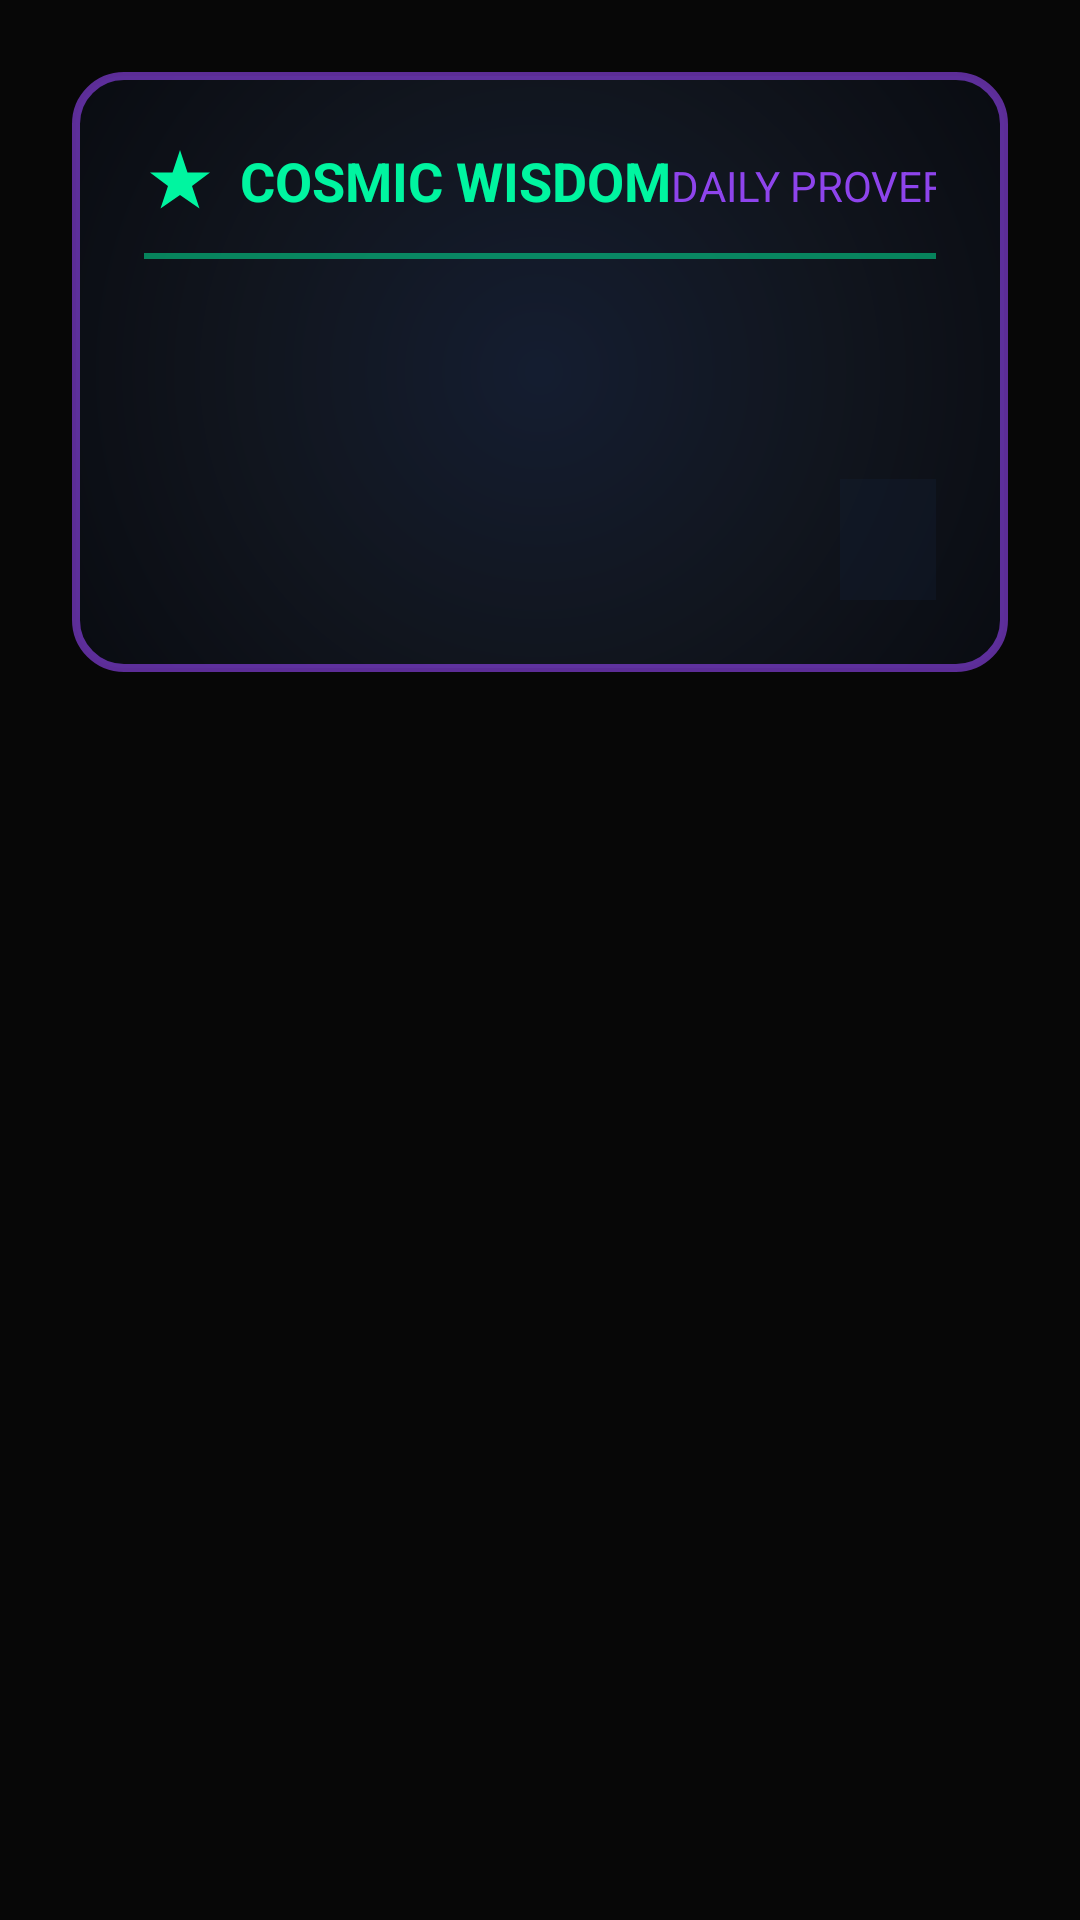

Locate icon controls on the screen. Image size 1080 × 1920, boxes as [x1, y1, x2, y2].
cosmic star: [150, 150, 210, 209]
